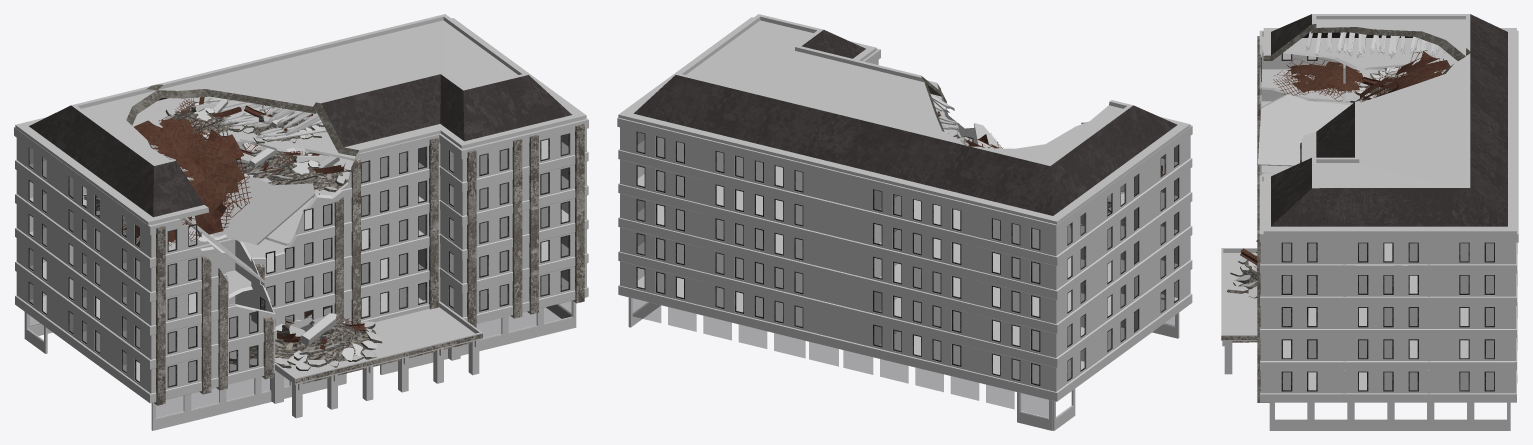
Rendered from Building_02_MSH.fbx.
The picture shows the model from 3 angles, left to right: view 1: azimuth 30°, elevation 25°; view 2: azimuth 150°, elevation 25°; view 3: azimuth 270°, elevation 25°; orthographic projection. The views are drawn at different scales.
Visible parts, largest first — view 1: BldgMedB_Concrete_Geo, BldgMedB_ConcRoof_Geo, BldgMedB_ConcDirty_Geo, BldgMedB_Glass_Geo, BldgMedB_Mullion_Geo, BldgMedB_RustedMetal_Geo, BldgMedB_Debris_Geo, BldgMedB_ConcBroken_Geo, BldgMedB_WoodBeams_Geo; view 2: BldgMedB_Concrete_Geo, BldgMedB_ConcRoof_Geo, BldgMedB_Glass_Geo, BldgMedB_Mullion_Geo; view 3: BldgMedB_Concrete_Geo, BldgMedB_ConcRoof_Geo, BldgMedB_RustedMetal_Geo, BldgMedB_Glass_Geo, BldgMedB_Mullion_Geo, BldgMedB_ConcBroken_Geo, BldgMedB_WoodBeams_Geo, BldgMedB_ConcDirty_Geo.
Boxes of the visible parts, left/top/right/bottom form: BldgMedB_Concrete_Geo: left=14, top=14, right=588, bottom=430; BldgMedB_ConcRoof_Geo: left=29, top=74, right=571, bottom=217; BldgMedB_ConcDirty_Geo: left=154, top=123, right=584, bottom=405; BldgMedB_Glass_Geo: left=30, top=135, right=571, bottom=417; BldgMedB_Mullion_Geo: left=28, top=133, right=569, bottom=387; BldgMedB_RustedMetal_Geo: left=123, top=97, right=365, bottom=349; BldgMedB_Debris_Geo: left=83, top=110, right=376, bottom=364; BldgMedB_ConcBroken_Geo: left=83, top=84, right=382, bottom=370; BldgMedB_WoodBeams_Geo: left=149, top=98, right=326, bottom=180; BldgMedB_Concrete_Geo: left=617, top=14, right=1192, bottom=430; BldgMedB_ConcRoof_Geo: left=634, top=30, right=1177, bottom=215; BldgMedB_Glass_Geo: left=633, top=132, right=1177, bottom=417; BldgMedB_Mullion_Geo: left=636, top=131, right=1178, bottom=386; BldgMedB_Concrete_Geo: left=1221, top=14, right=1518, bottom=430; BldgMedB_ConcRoof_Geo: left=1271, top=14, right=1507, bottom=226; BldgMedB_RustedMetal_Geo: left=1240, top=50, right=1450, bottom=270; BldgMedB_Glass_Geo: left=1283, top=53, right=1493, bottom=389; BldgMedB_Mullion_Geo: left=1261, top=53, right=1494, bottom=391; BldgMedB_ConcBroken_Geo: left=1227, top=24, right=1470, bottom=298; BldgMedB_WoodBeams_Geo: left=1306, top=31, right=1446, bottom=58; BldgMedB_ConcDirty_Geo: left=1221, top=36, right=1301, bottom=402.
Size of the model in its own units: 46.83 by 24.77 by 28.87.
